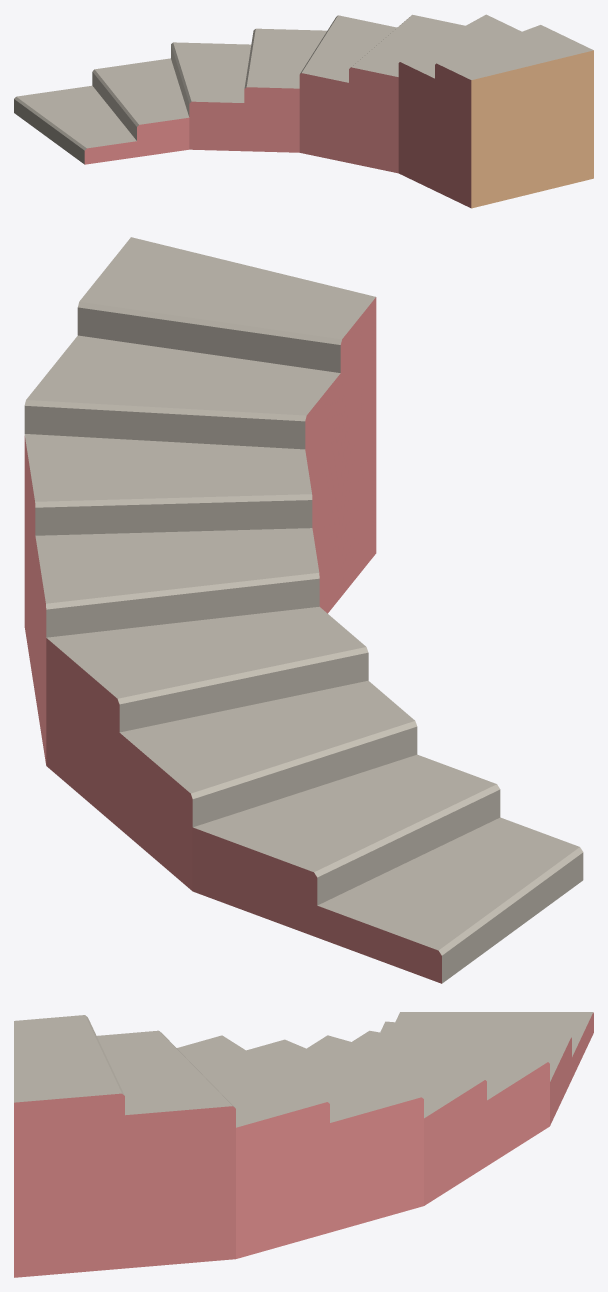
The model's file is Tiered_Walkway_Steps_Curve_Short_3x3.glb.
The picture shows the model from 3 angles, top to bottom: view 1: azimuth 30°, elevation 25°; view 2: azimuth 150°, elevation 25°; view 3: azimuth 270°, elevation 25°; orthographic projection. The views are drawn at different scales.
Visible parts, largest first — view 1: Tiered_Walkway_Steps_Curve_Short_3x3; view 2: Tiered_Walkway_Steps_Curve_Short_3x3; view 3: Tiered_Walkway_Steps_Curve_Short_3x3.
Part boxes in pixels (x1,y1,x2,y2): Tiered_Walkway_Steps_Curve_Short_3x3: (14,14,593,208); Tiered_Walkway_Steps_Curve_Short_3x3: (24,237,583,983); Tiered_Walkway_Steps_Curve_Short_3x3: (14,1012,593,1277).
Bounding box in the file's own units: 300 × 100 × 300.
